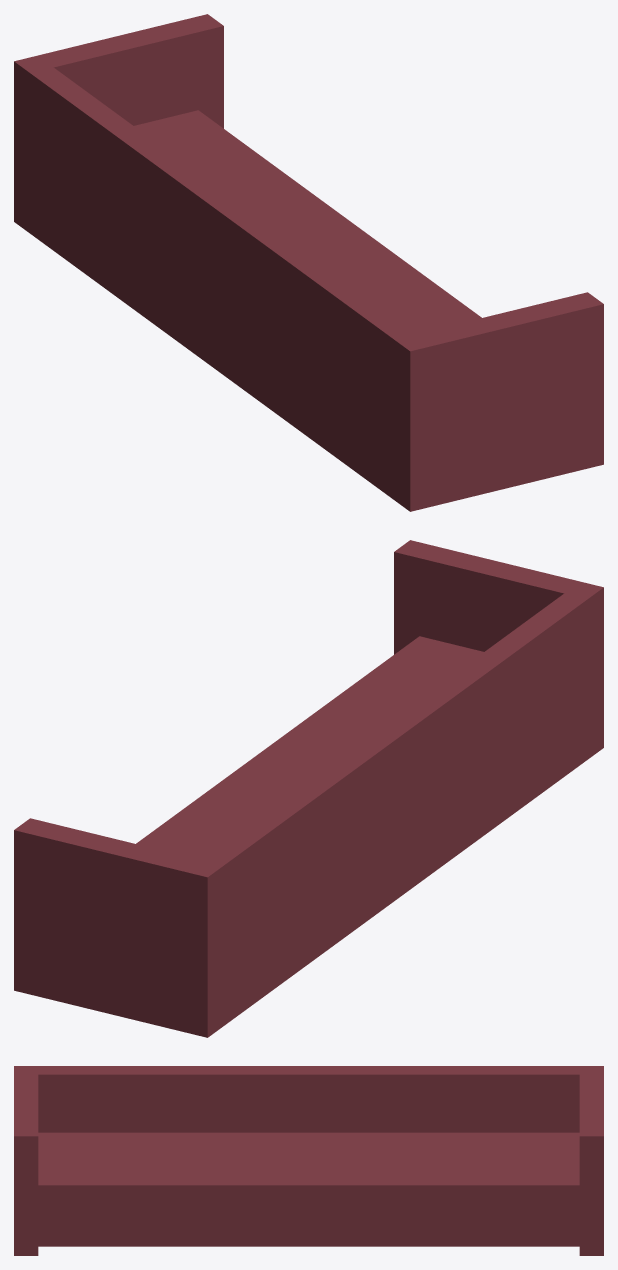
File: Couch.fbx
3 views of the same model, one above another, from view 1: azimuth 30°, elevation 25°; view 2: azimuth 150°, elevation 25°; view 3: azimuth 270°, elevation 25° (orthographic). The views are drawn at different scales.
Visible parts, largest first — view 1: Model; view 2: Model; view 3: Model.
Part boxes in pixels (<box>): Model: <box>14,14,603,511</box>; Model: <box>14,540,603,1037</box>; Model: <box>14,1066,603,1255</box>.
Size of the model in its own units: 6.47 by 1.83 by 1.45.
